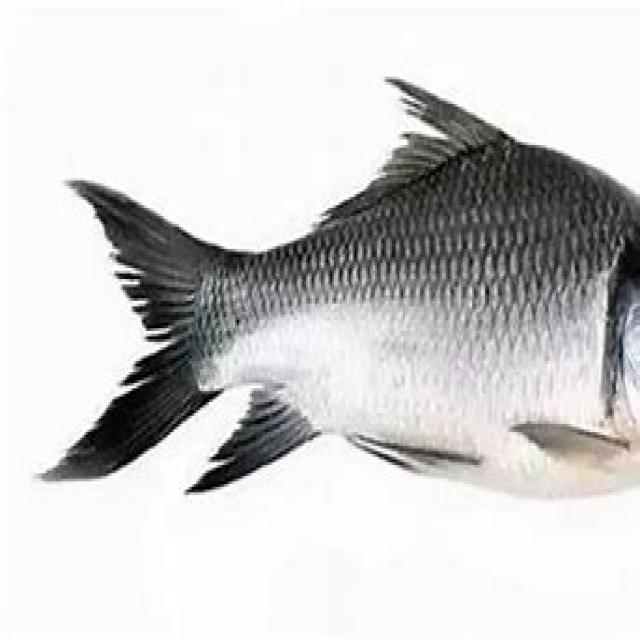Catla: (41, 72, 638, 496)
